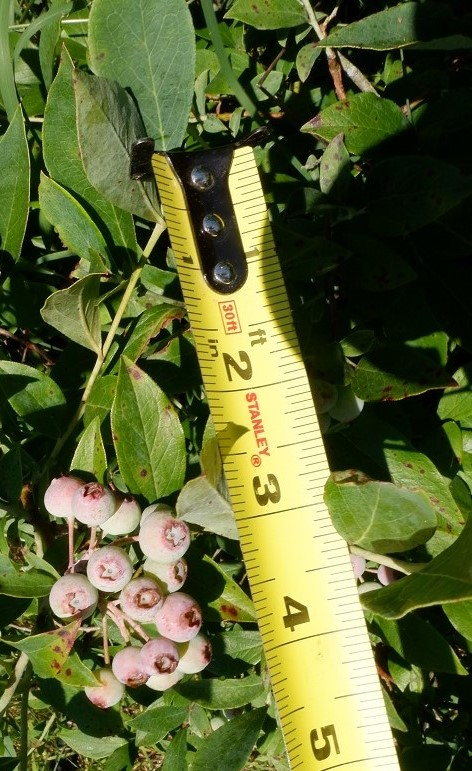Immature: (49, 572, 99, 623), (139, 515, 191, 564), (154, 591, 203, 643), (87, 545, 133, 593), (72, 482, 117, 526), (44, 472, 87, 518), (121, 576, 164, 622), (100, 491, 141, 535), (143, 557, 188, 596), (84, 668, 125, 709), (111, 646, 150, 688), (139, 638, 181, 677), (175, 631, 214, 673), (140, 502, 176, 529), (145, 669, 186, 691)
